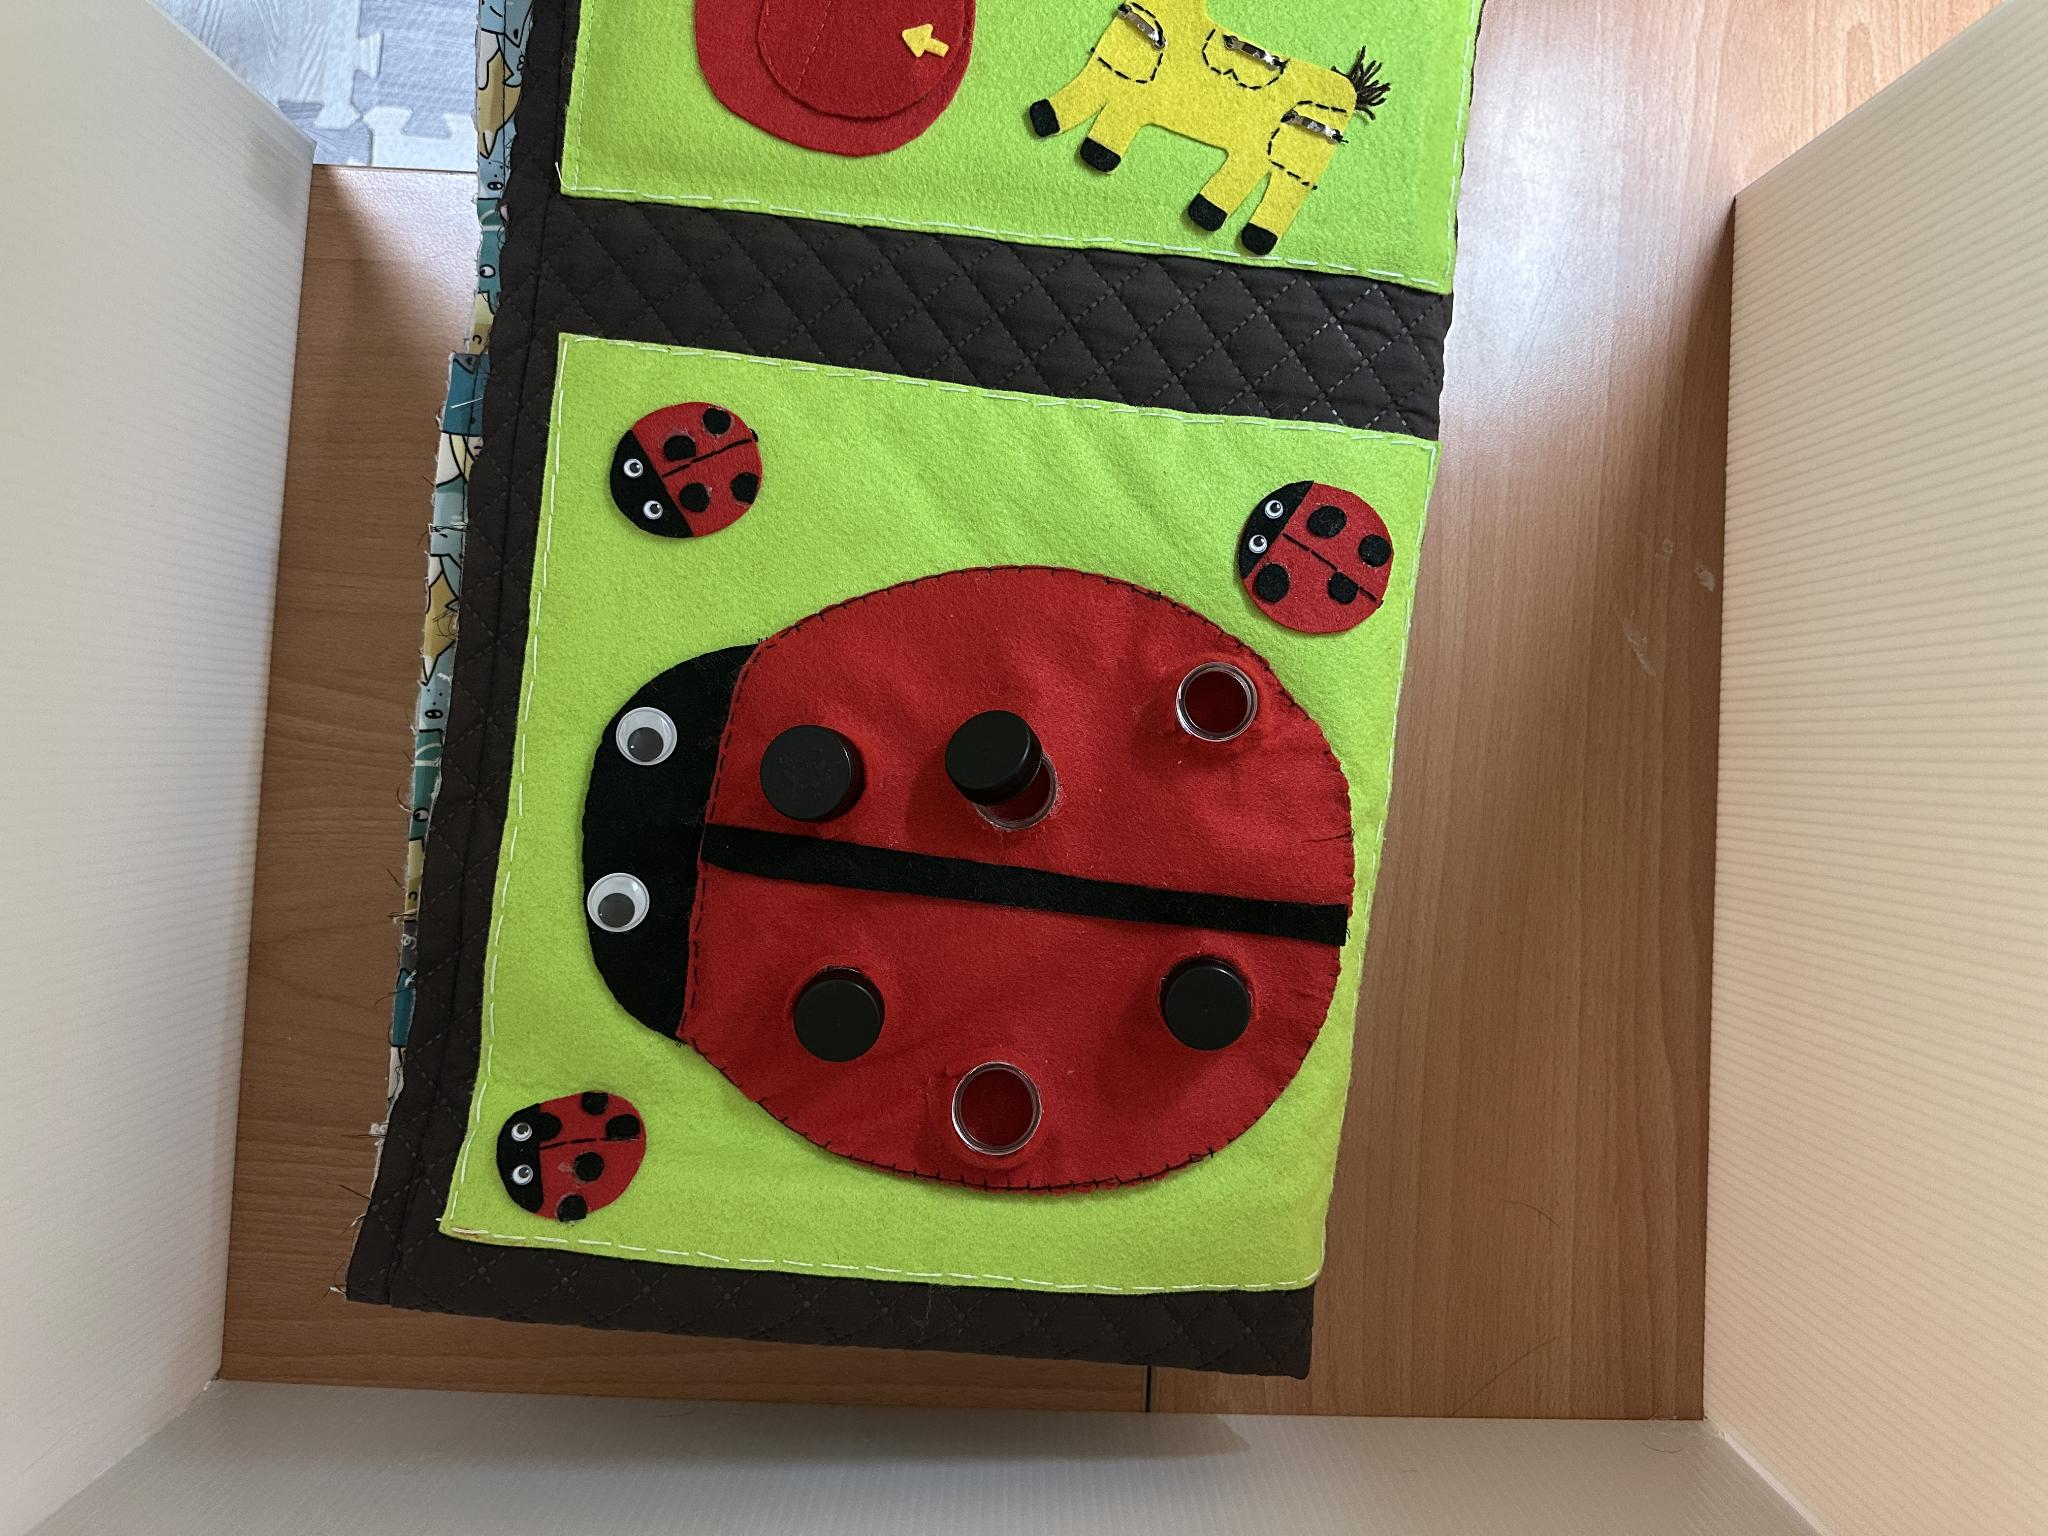cap_ng: (930, 692, 1077, 849)
cap_ok: (769, 949, 922, 1079), (1135, 942, 1285, 1065), (748, 705, 885, 837)
